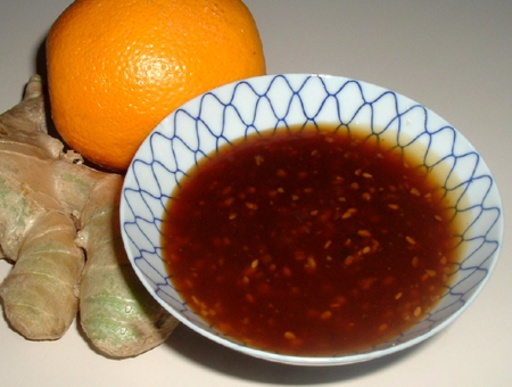background: (0, 0, 213, 217), (127, 74, 368, 215)
